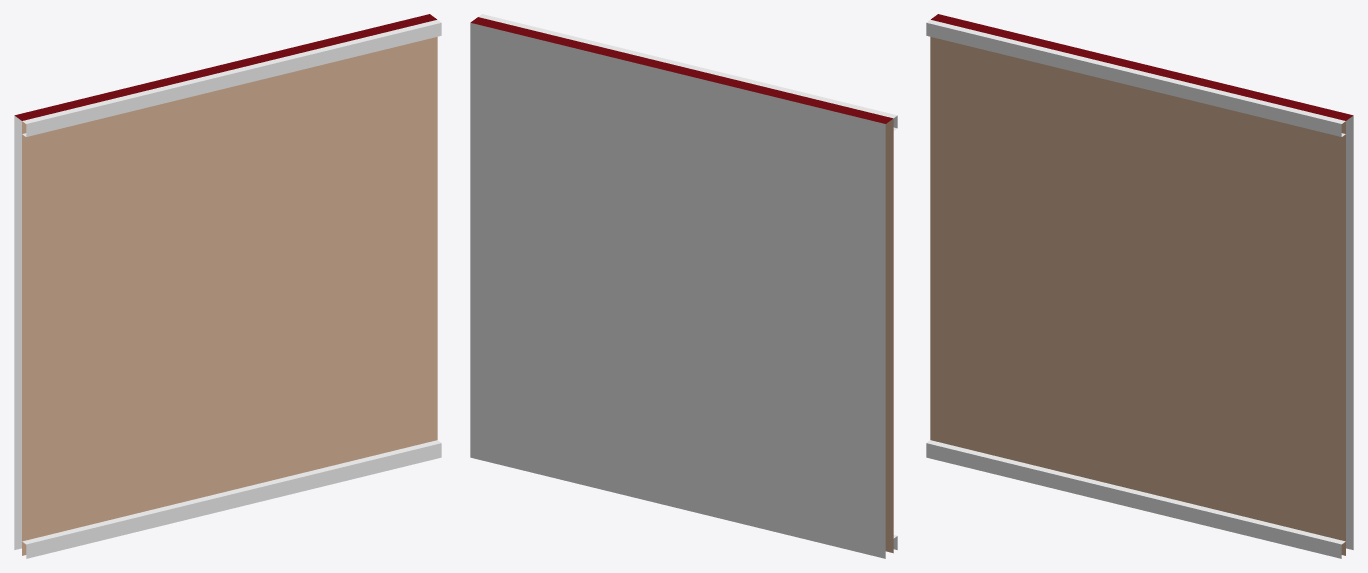
The model's file is Wall02.fbx.
3 views of the same model, side by side, from view 1: azimuth 30°, elevation 25°; view 2: azimuth 150°, elevation 25°; view 3: azimuth 330°, elevation 25° (orthographic).
Visible parts, largest first — view 1: Cube.006; view 2: Cube.006; view 3: Cube.006.
Part boxes in pixels (x1,y1,x2,y2): Cube.006: [14, 14, 441, 558]; Cube.006: [470, 14, 897, 558]; Cube.006: [926, 14, 1353, 558].
Bounding box in the file's own units: 400 × 400 × 19.86.
